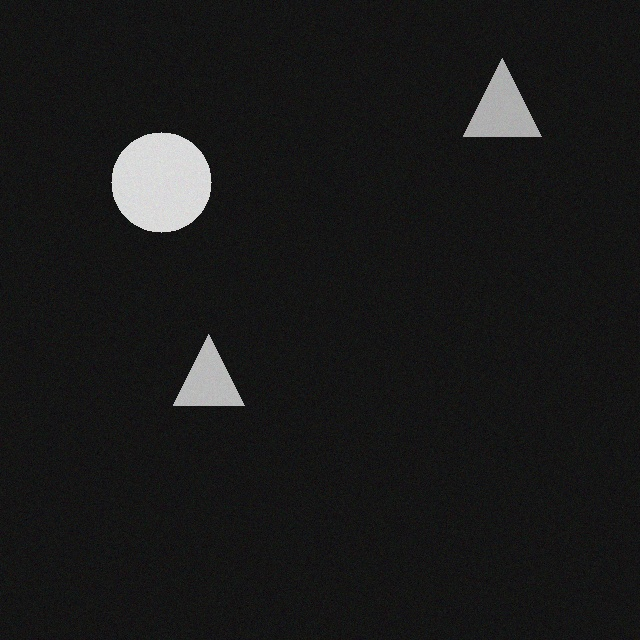circle: (113, 132, 213, 232)
triangle: (465, 58, 543, 136), (175, 334, 246, 405)
